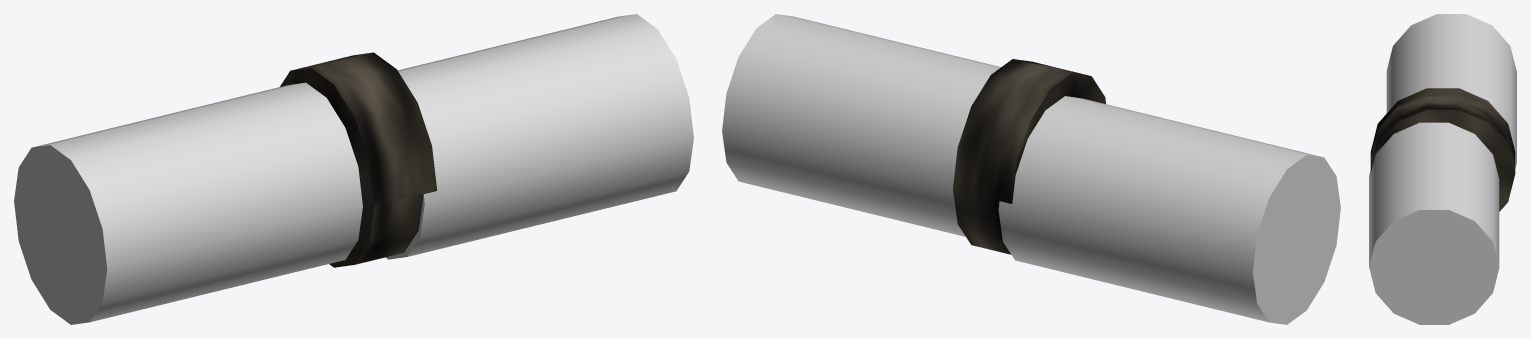
File: item.ferrous_sample.glb
3 renders of one model, left to right at view 1: azimuth 30°, elevation 25°; view 2: azimuth 150°, elevation 25°; view 3: azimuth 270°, elevation 25°, orthographic. The views are drawn at different scales.
Parts seen in each view (by area): view 1: _MeshInstance3D_152, _MeshInstance3D_153, _MeshInstance3D_154; view 2: _MeshInstance3D_152, _MeshInstance3D_153, _MeshInstance3D_154; view 3: _MeshInstance3D_153, _MeshInstance3D_152, _MeshInstance3D_154.
Part boxes in pixels (x1,y1,x2,y2): _MeshInstance3D_152: [14, 82, 362, 324]; _MeshInstance3D_153: [386, 14, 693, 259]; _MeshInstance3D_154: [280, 52, 437, 267]; _MeshInstance3D_152: [998, 96, 1340, 324]; _MeshInstance3D_153: [722, 14, 1000, 236]; _MeshInstance3D_154: [953, 59, 1105, 254]; _MeshInstance3D_153: [1369, 122, 1499, 324]; _MeshInstance3D_152: [1386, 14, 1516, 168]; _MeshInstance3D_154: [1370, 88, 1515, 211].
Bounding box in the file's own units: 1.2 × 0.3661 × 0.3825.
2 materials, 1 textured.
